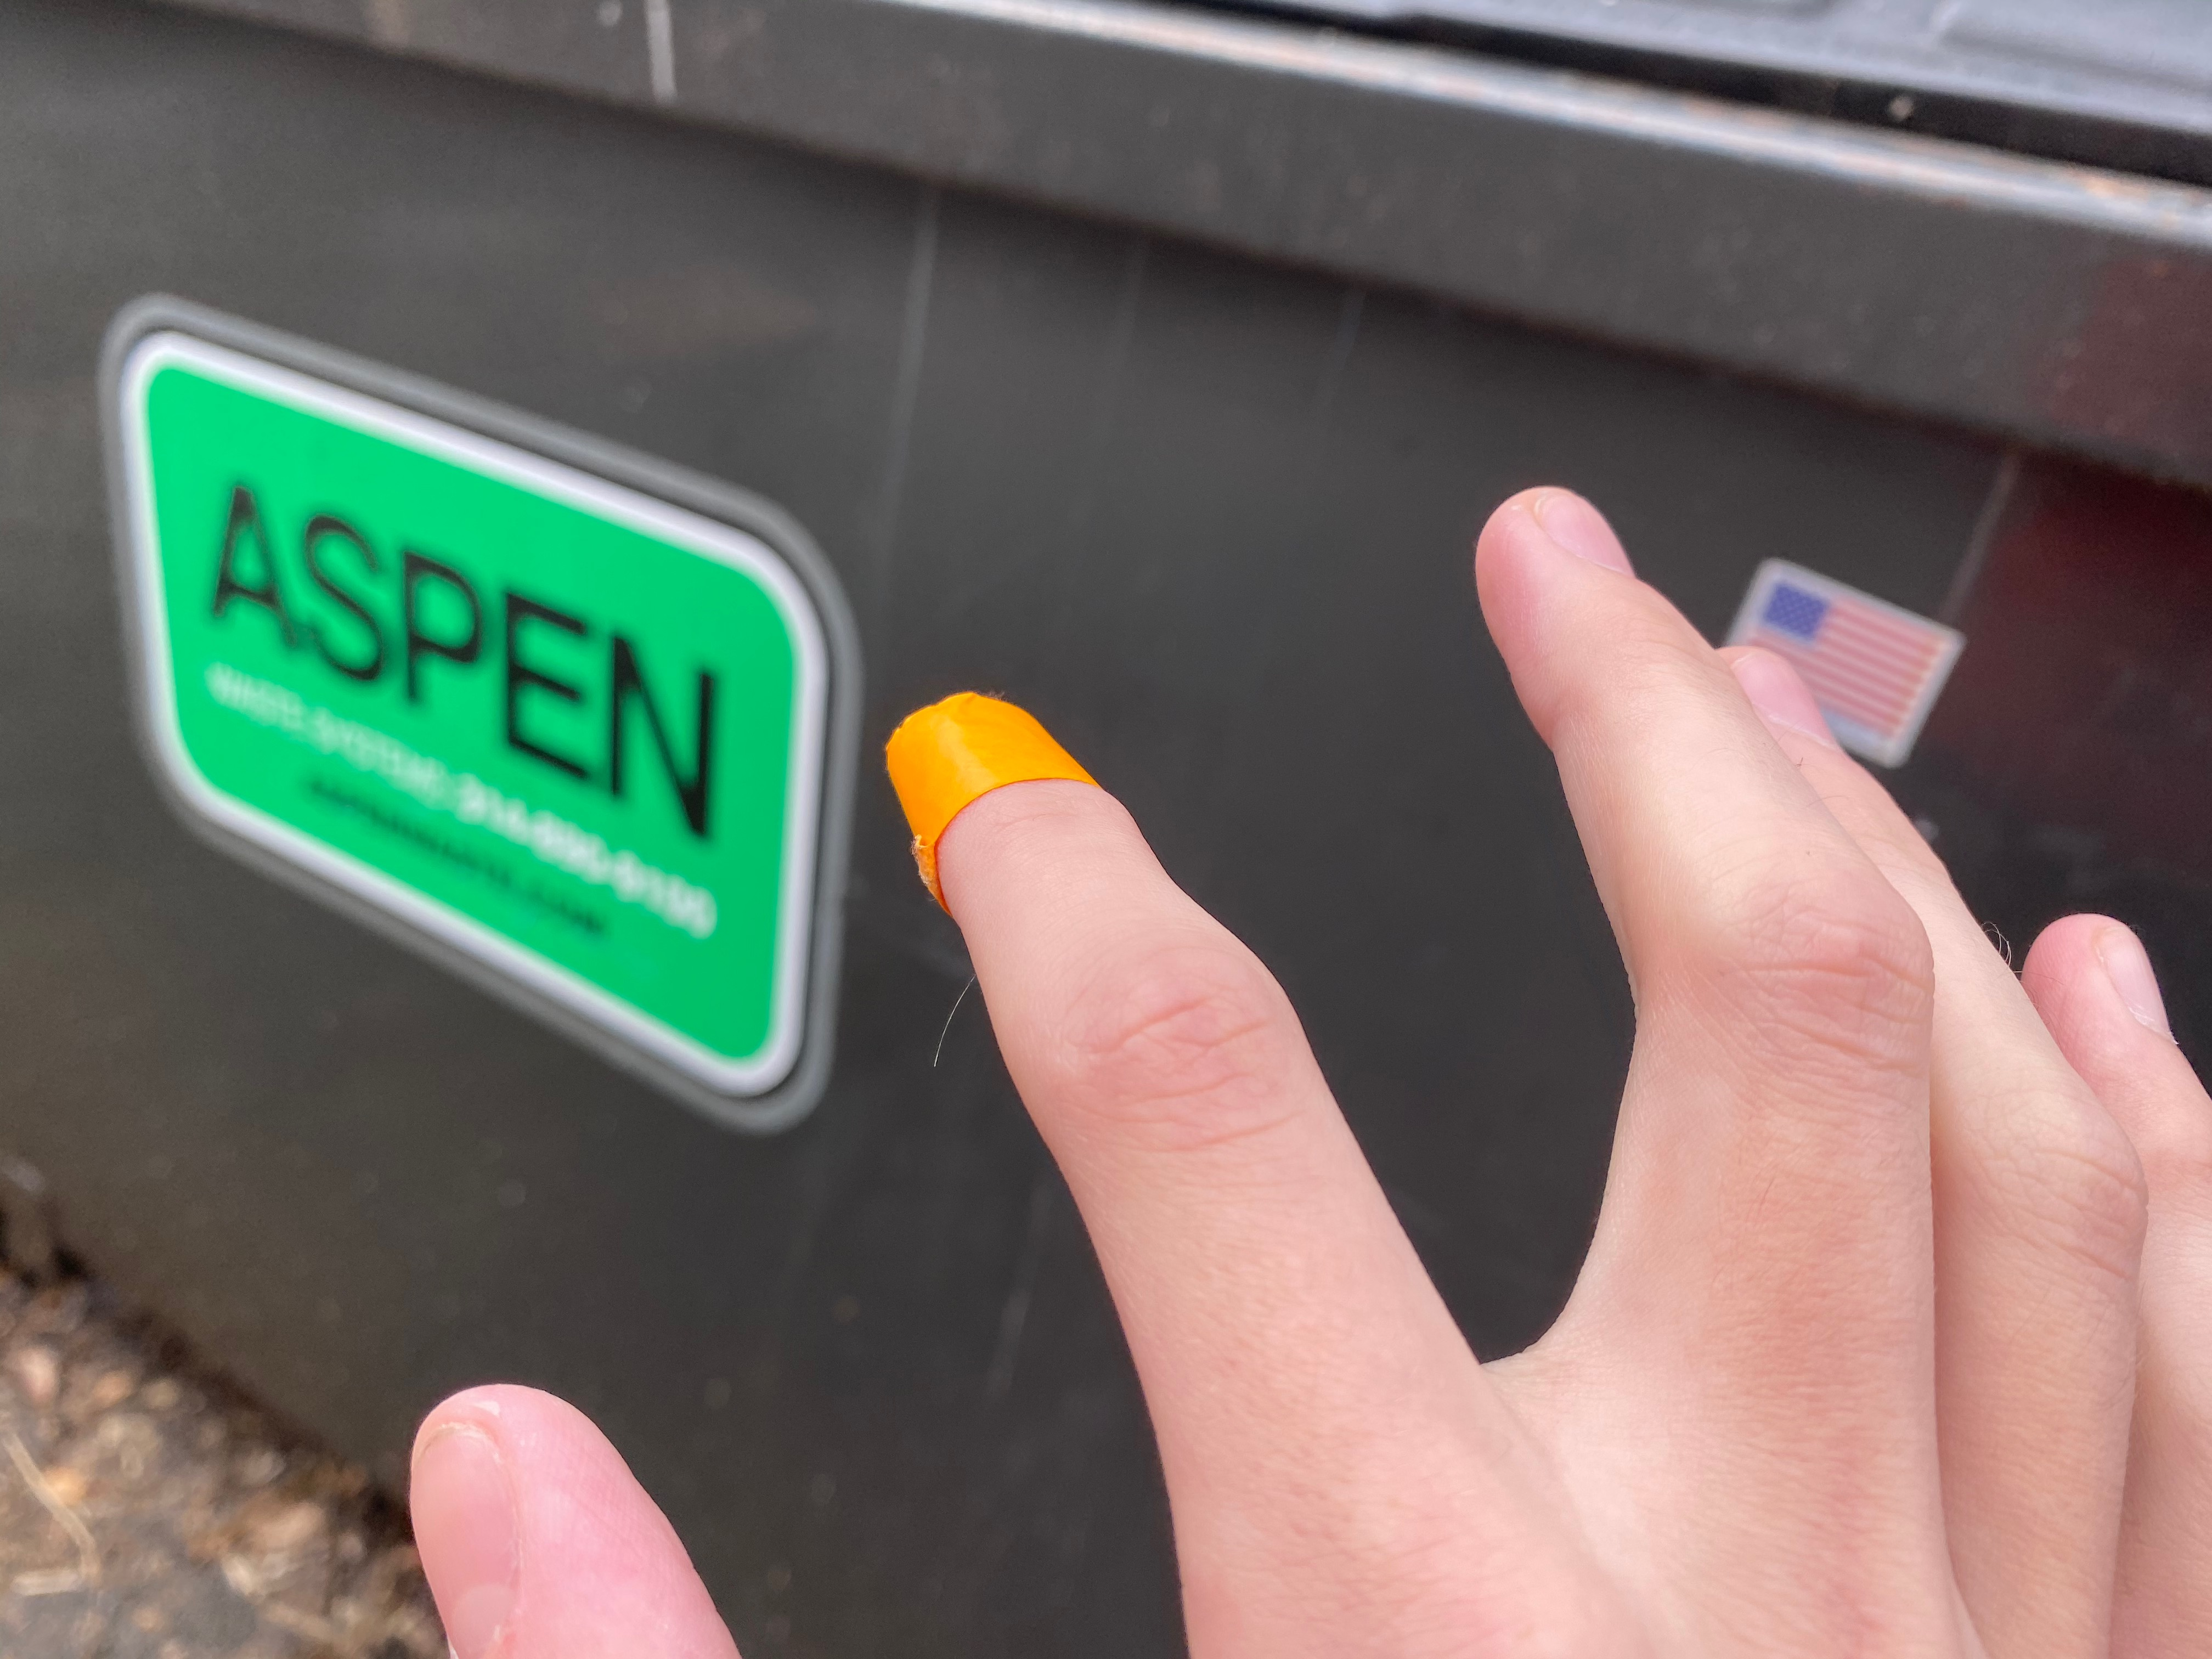fingertip: (869, 671, 1104, 929)
